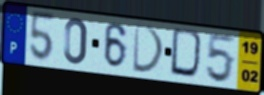0: (63, 17, 89, 67)
5: (205, 31, 238, 85), (28, 9, 57, 66)
6: (102, 22, 129, 71)
D: (169, 26, 207, 82), (131, 22, 167, 75)
